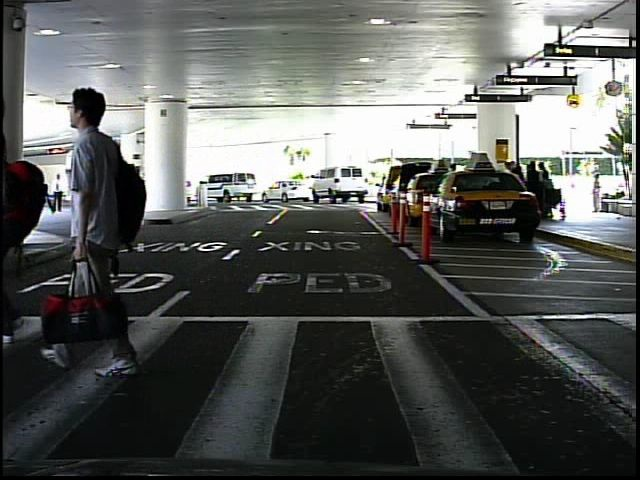person: (61, 68, 163, 384), (51, 171, 70, 221), (588, 170, 607, 216)
